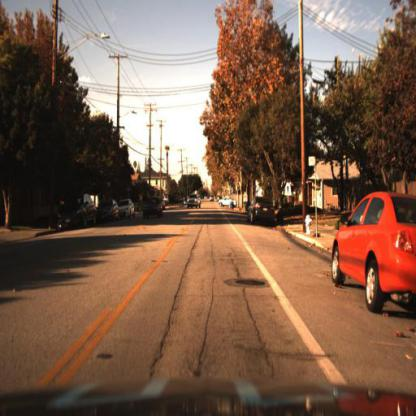car: (332, 191, 416, 319), (55, 190, 97, 236), (248, 196, 277, 225), (140, 194, 166, 226), (95, 199, 121, 225), (185, 192, 204, 215), (219, 196, 237, 211)
